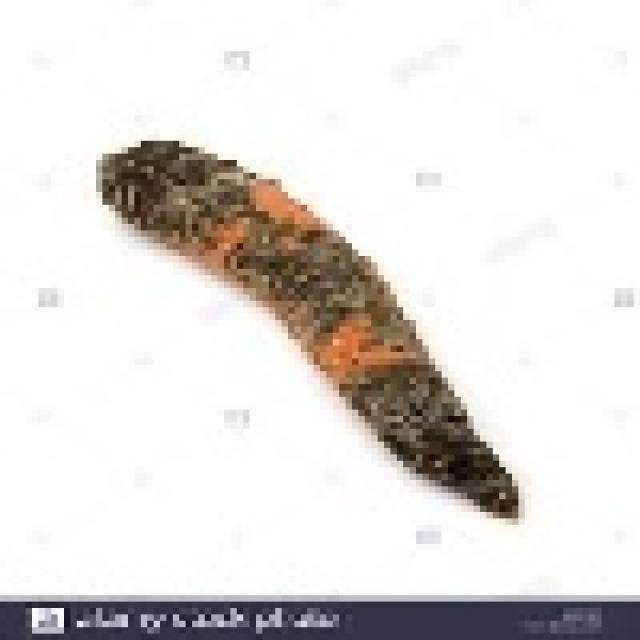Stale_Carrot: (60, 126, 548, 534)
